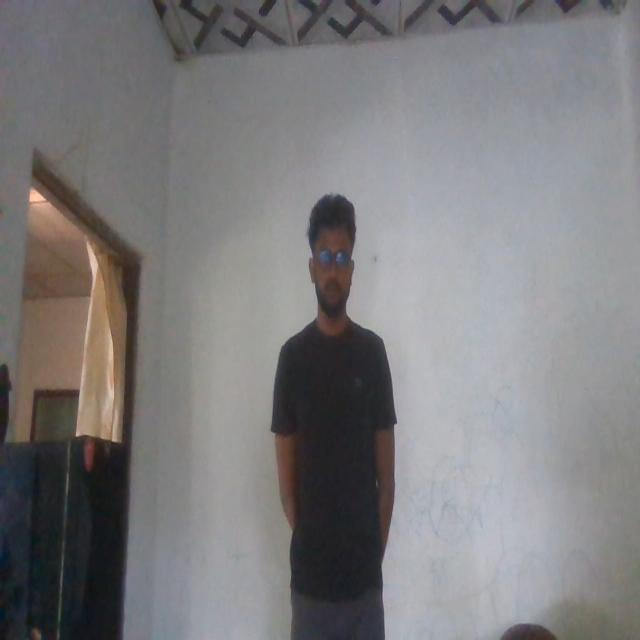Person: (269, 189, 401, 640)
